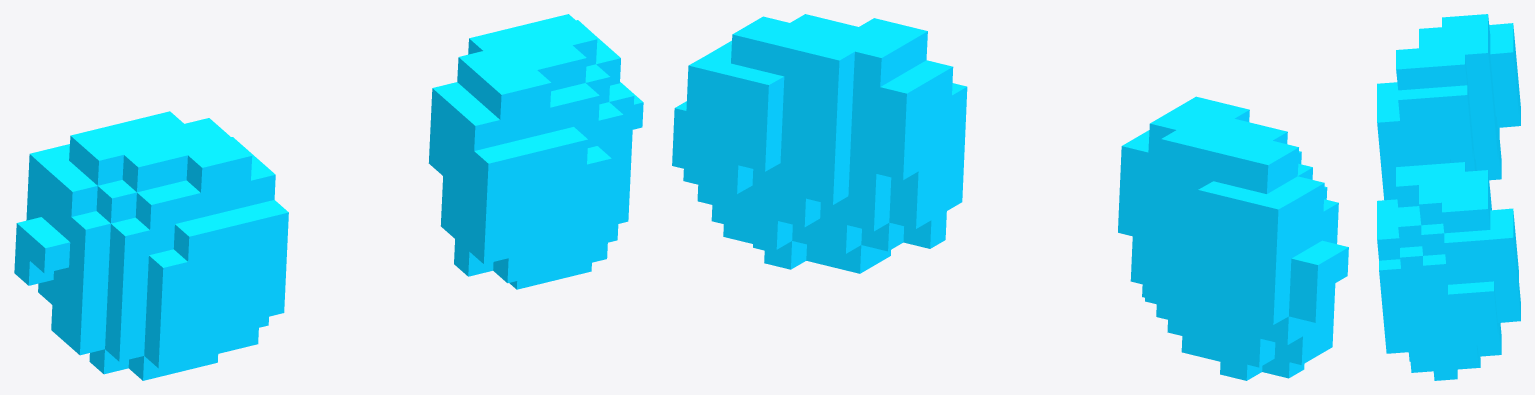
File: teal.gltf
The picture shows the model from 3 angles, left to right: view 1: azimuth 30°, elevation 25°; view 2: azimuth 150°, elevation 25°; view 3: azimuth 270°, elevation 25°; orthographic projection. The views are drawn at different scales.
Visible parts, largest first — view 1: 眼睛.1; view 2: 眼睛.1; view 3: 眼睛.1.
Part boxes in pixels (left/top/right/bottom): 眼睛.1: left=14, top=14, right=643, bottom=380; 眼睛.1: left=672, top=14, right=1348, bottom=380; 眼睛.1: left=1377, top=14, right=1520, bottom=380.
Bounding box in the file's own units: 2.88 × 0.9961 × 0.7471.
